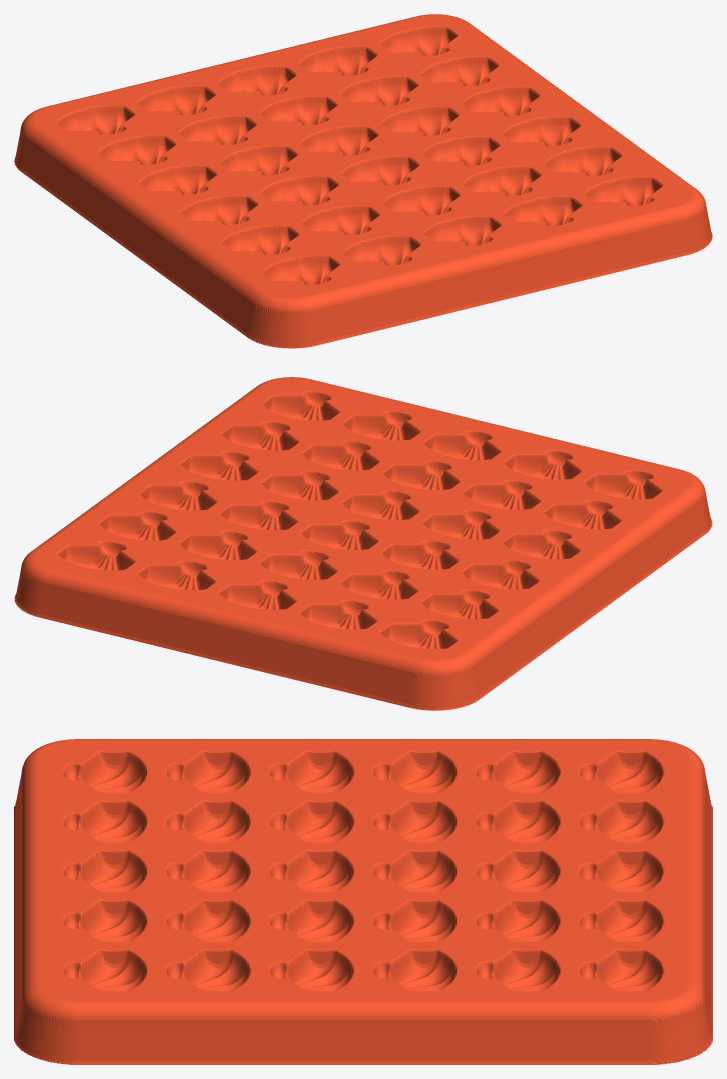
Rendered from mold.glb.
3 views of the same model, one above another, from view 1: azimuth 30°, elevation 25°; view 2: azimuth 150°, elevation 25°; view 3: azimuth 270°, elevation 25° (orthographic). The views are drawn at different scales.
Parts seen in each view (by area): view 1: geometry_0; view 2: geometry_0; view 3: geometry_0.
Boxes of the visible parts, x1,y1,x2,y2 form: geometry_0: [14, 14, 712, 348]; geometry_0: [14, 377, 712, 710]; geometry_0: [14, 739, 712, 1064].
Size of the model in its own units: 0.0942 by 0.0083 by 0.0988.
